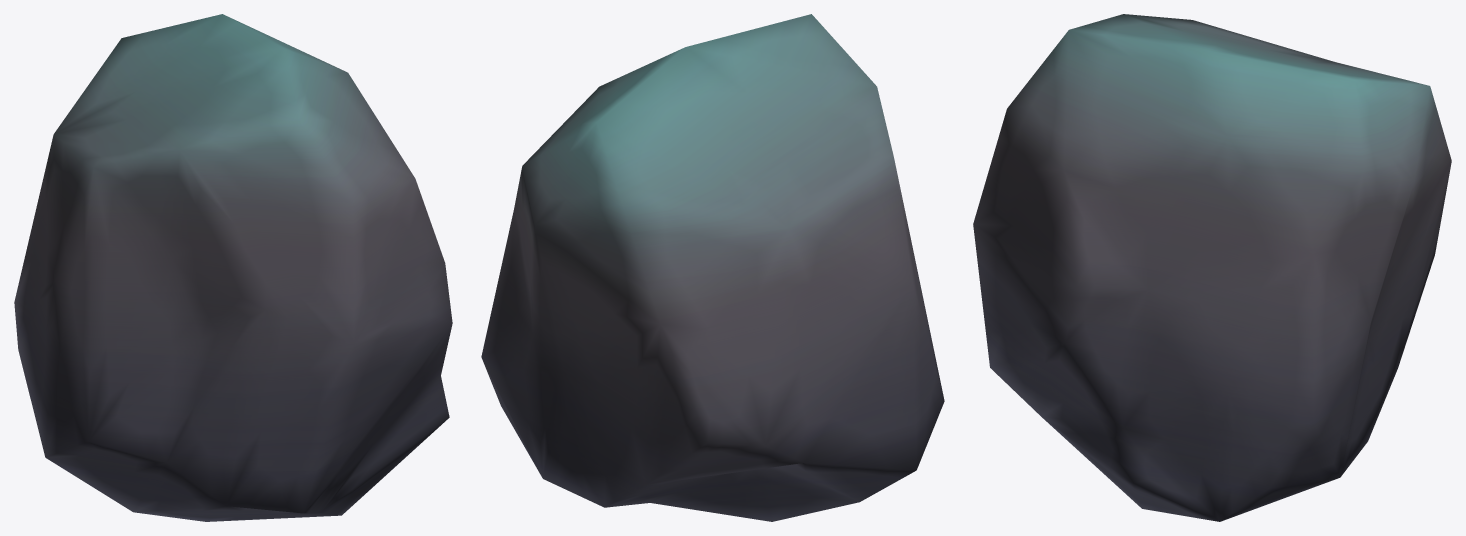
Rendered from SM_Hill_BigRock_01.fbx.
3 views of the same model, side by side, from view 1: azimuth 30°, elevation 25°; view 2: azimuth 150°, elevation 25°; view 3: azimuth 270°, elevation 25° (orthographic). The views are drawn at different scales.
Parts seen in each view (by area): view 1: BigStone.001; view 2: BigStone.001; view 3: BigStone.001.
Boxes of the visible parts, x1,y1,x2,y2 form: BigStone.001: (14,14,452,521); BigStone.001: (481,14,944,521); BigStone.001: (973,14,1451,521).
Bounding box in the file's own units: 1278 × 1434 × 1391.
1 material, 1 textured.
